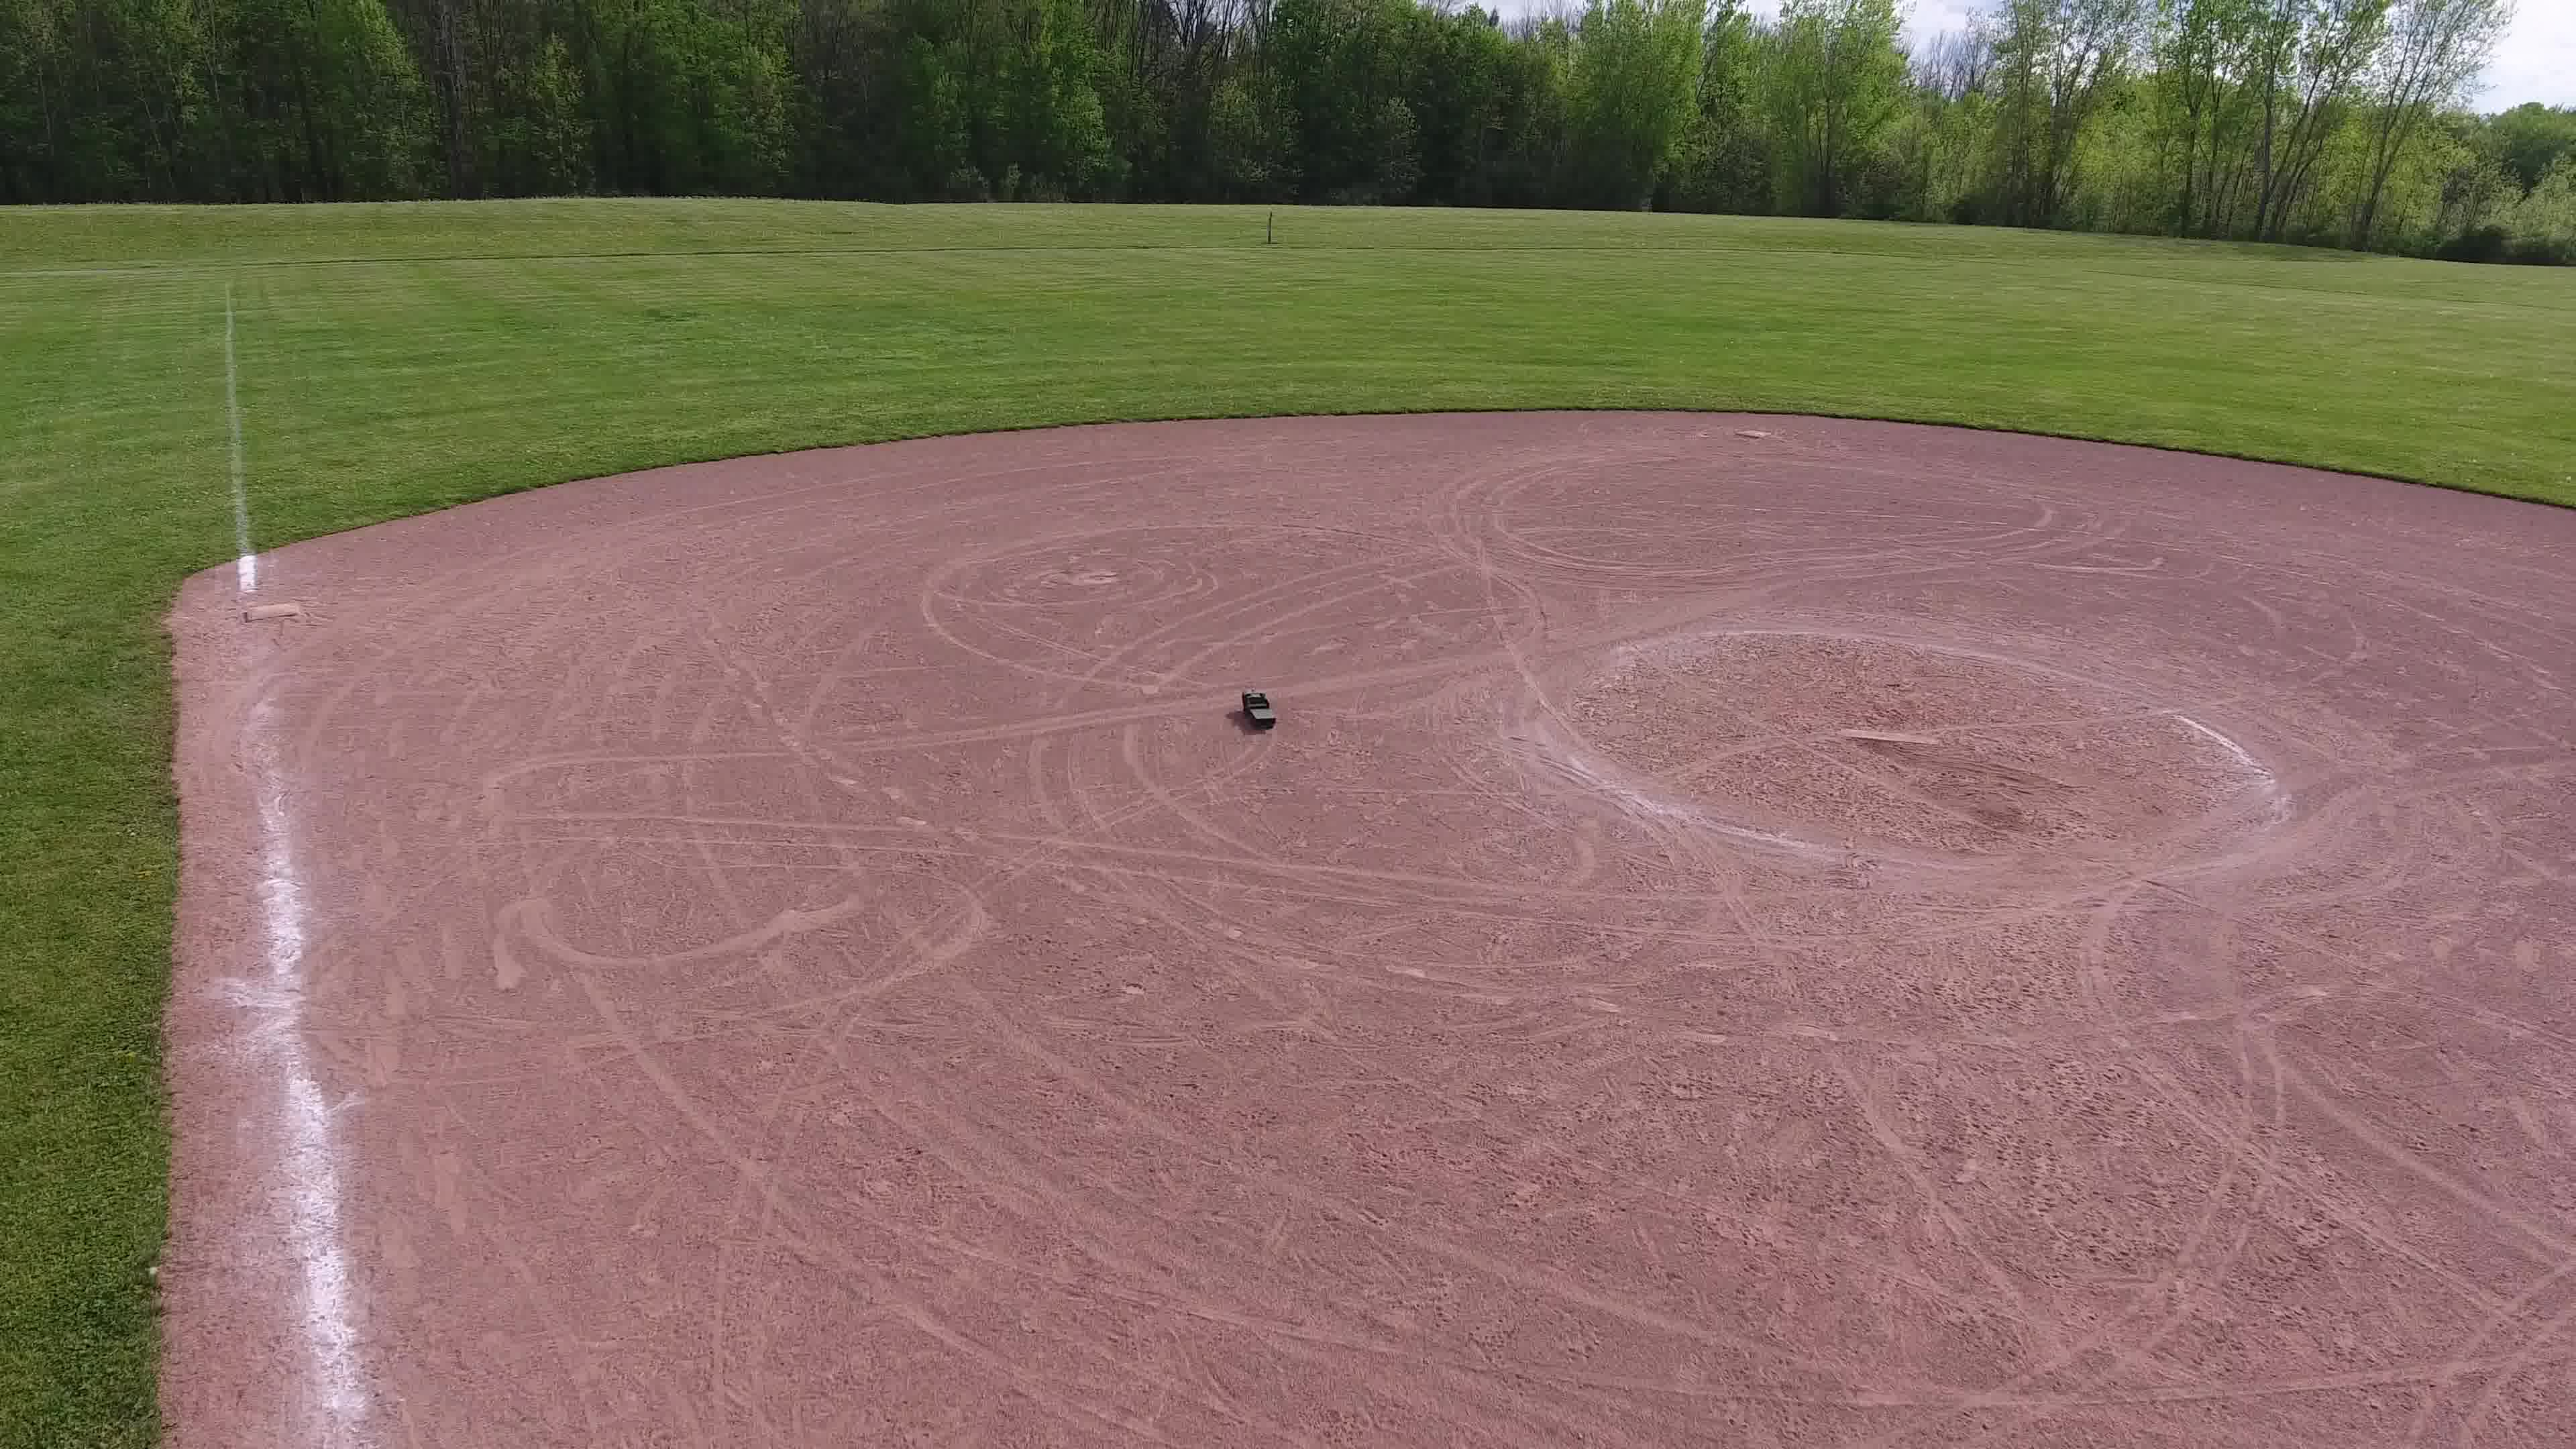transporter9: (1240, 686, 1279, 732)
